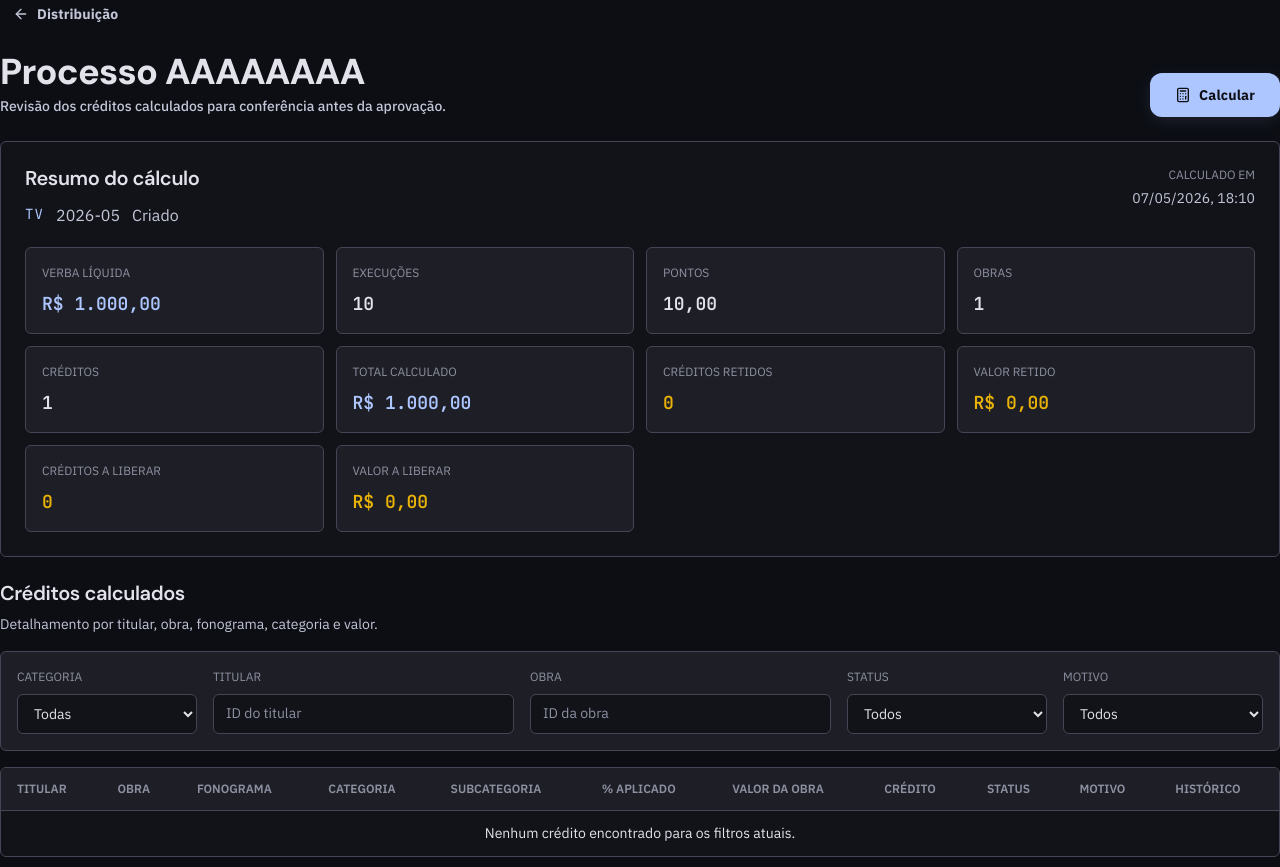
it: ProcessoCalculoPage › shows backend ProblemDetail from calculation failure as an actionable error
What coordinates should you click on to do the following:
click the button "Calcular"
I would click on:
 (1215, 95)
Its box is [1150, 73, 1279, 117].
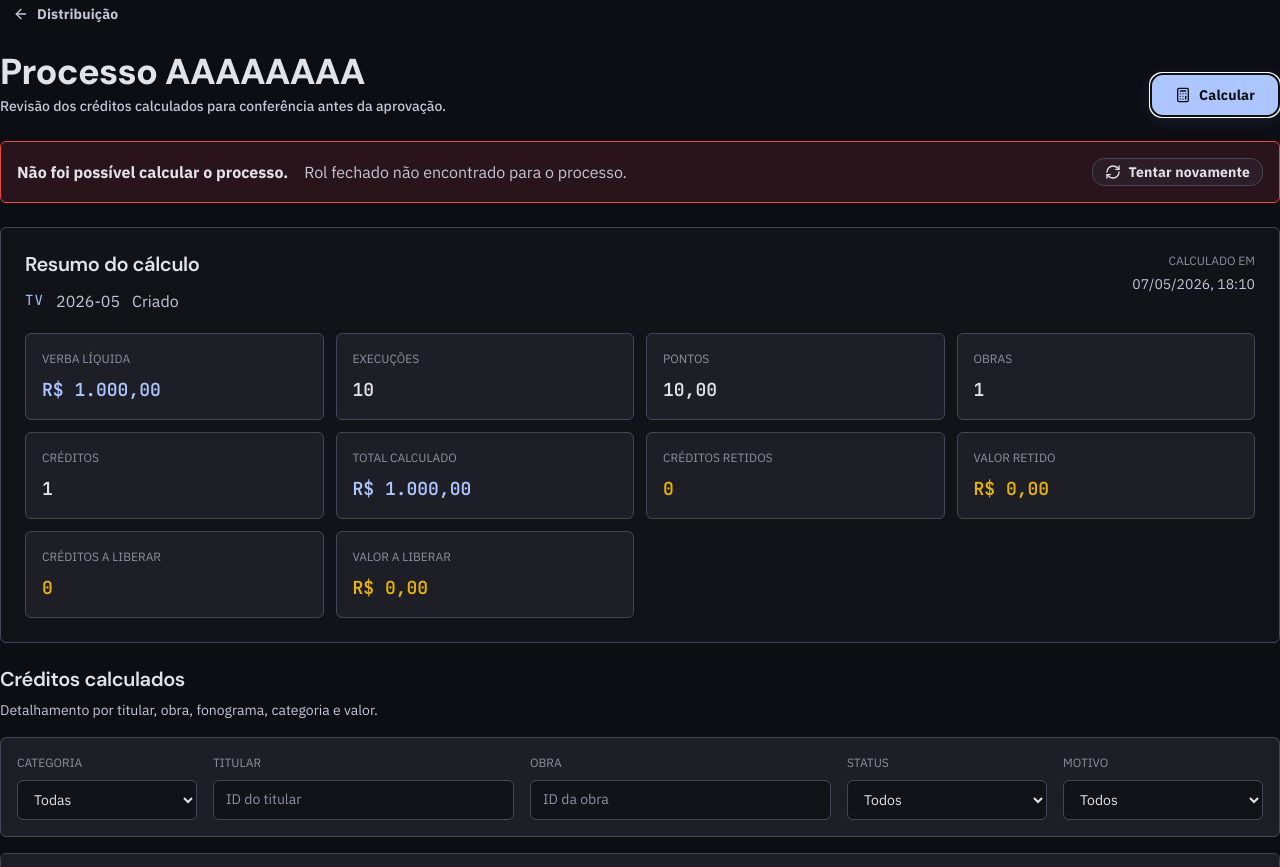
Expected: the message shows "Não foi possível calcular o processo.", [17, 162, 288, 182]
Expected: the message shows "Rol fechado não encontrado para o processo.", [304, 162, 627, 182]
Expected: the button "Tentar novamente" is enabled, [1092, 158, 1263, 186]
